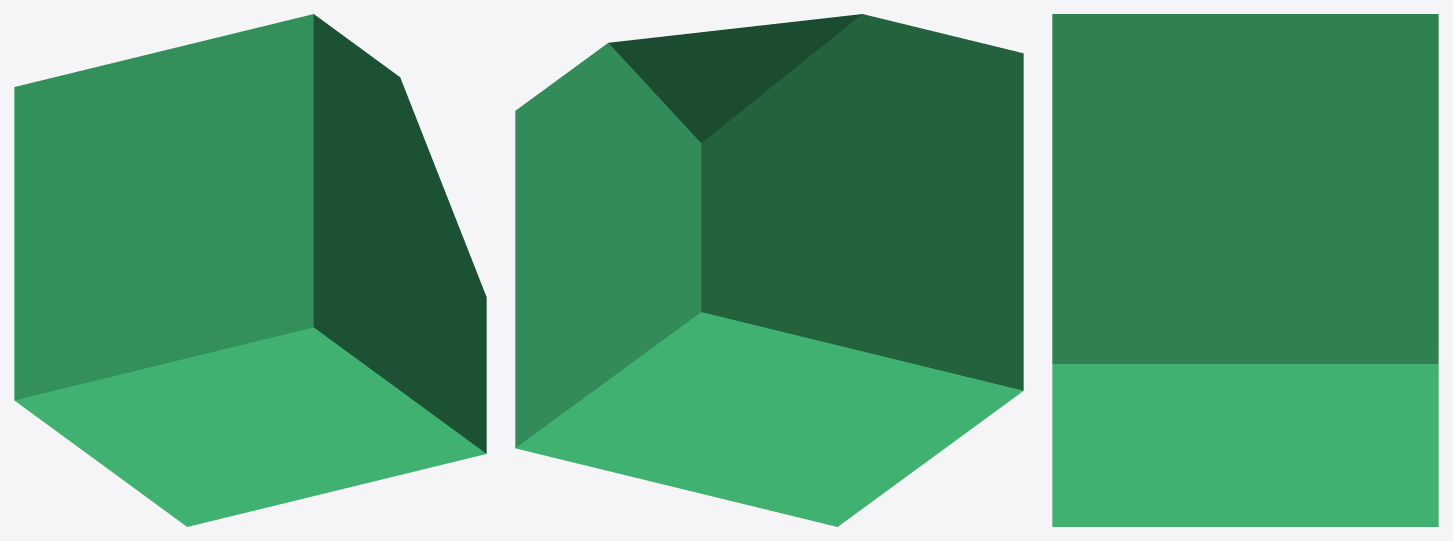
The model's file is r3c1_border_green.gltf.
The picture shows the model from 3 angles, left to right: view 1: azimuth 30°, elevation 25°; view 2: azimuth 150°, elevation 25°; view 3: azimuth 270°, elevation 25°; orthographic projection. The views are drawn at different scales.
Parts seen in each view (by area): view 1: r3c1_border_green; view 2: r3c1_border_green; view 3: r3c1_border_green.
Part boxes in pixels (bbox=[...]): r3c1_border_green: bbox=[14, 14, 486, 526]; r3c1_border_green: bbox=[515, 14, 1023, 526]; r3c1_border_green: bbox=[1052, 14, 1438, 526].
Size of the model in its own units: 2.1 by 2.1 by 2.1.
Materials: 1 (1 with a texture image).
